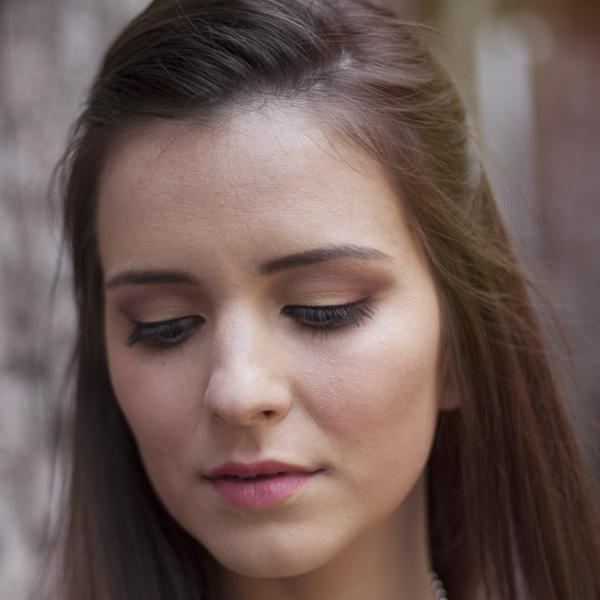Eyes: (270, 271, 390, 346), (121, 289, 215, 365)
